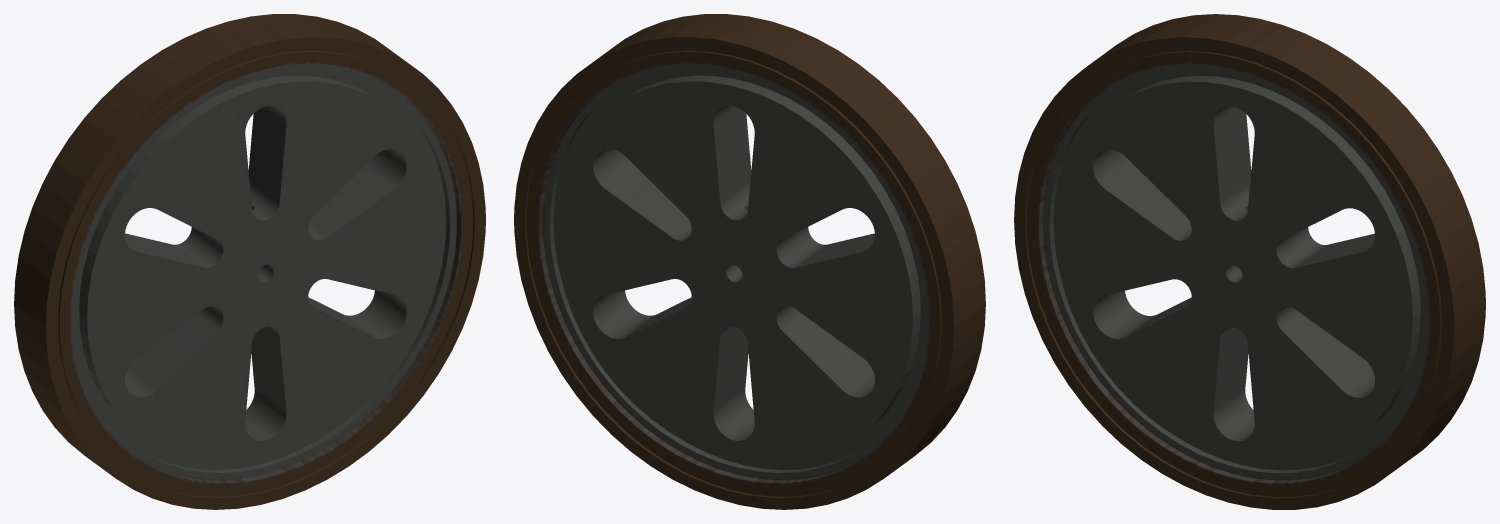
The model's file is wheel.dae.
3 views of the same model, side by side, from view 1: azimuth 30°, elevation 25°; view 2: azimuth 150°, elevation 25°; view 3: azimuth 330°, elevation 25° (orthographic).
Parts seen in each view (by area): view 1: node; view 2: node; view 3: node.
Boxes of the visible parts, box(x1,y1,x2,y2) form: node: box(14, 14, 485, 509); node: box(514, 14, 985, 509); node: box(1014, 14, 1485, 509).
Size of the model in its own units: 0.16 by 0.1599 by 0.02.
Materials: 1 (1 with a texture image).
